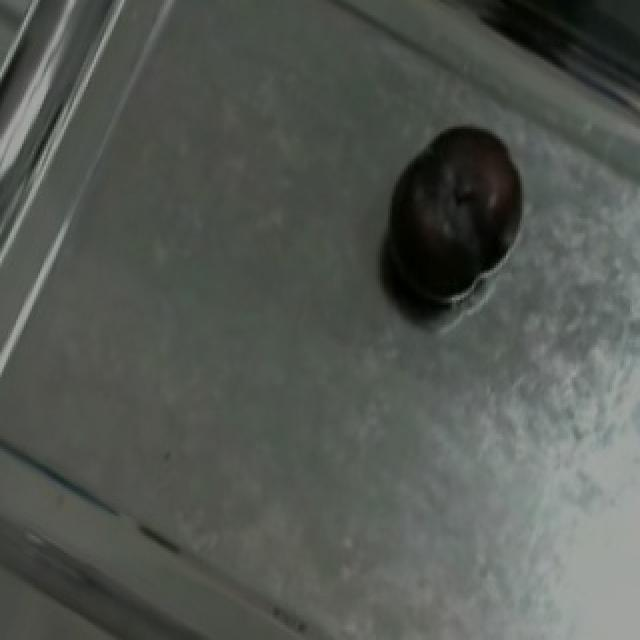Fruit: (368, 104, 550, 315)
